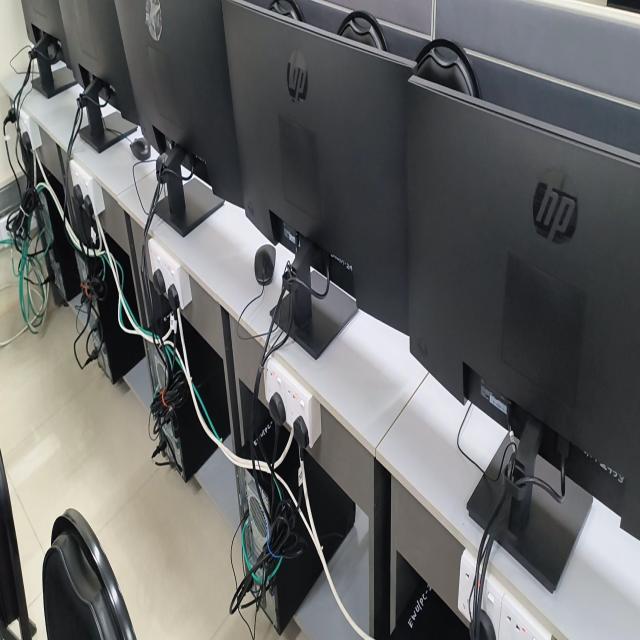Chair: (43, 508, 136, 639), (0, 452, 36, 639), (413, 39, 480, 97), (337, 11, 389, 51), (269, 0, 304, 21)
Cpu: (238, 415, 355, 636), (145, 306, 230, 487), (73, 230, 147, 387), (34, 172, 81, 305), (387, 577, 473, 638)
Monitor: (406, 76, 640, 591), (222, 0, 410, 359), (115, 0, 242, 236), (60, 0, 139, 152), (21, 0, 74, 98)
Mouse: (254, 244, 275, 284), (130, 137, 151, 161)
